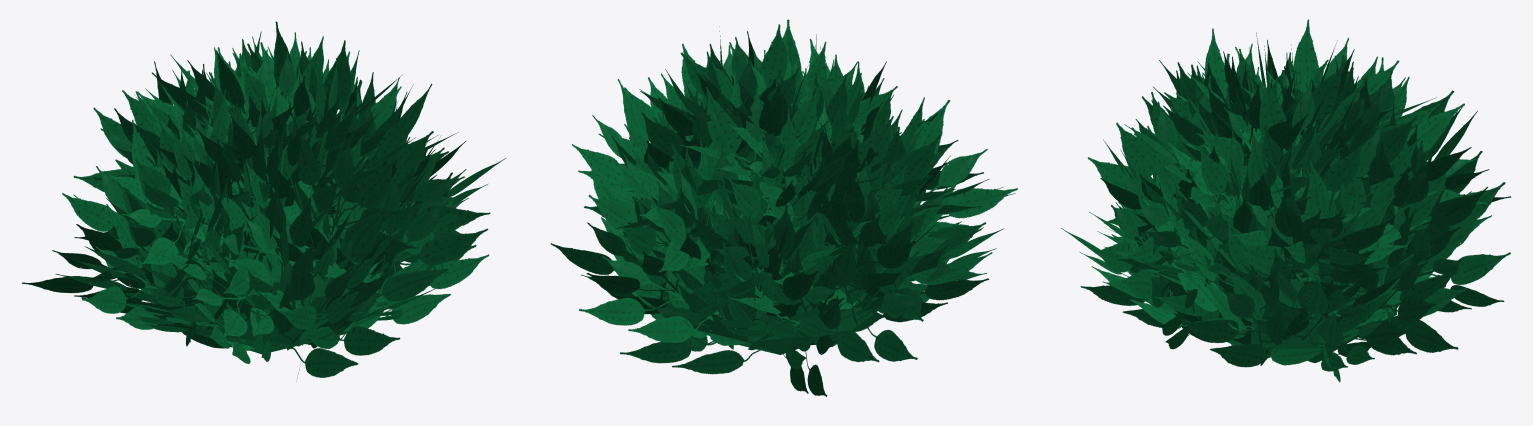
The model's file is bush.glb.
3 views of the same model, side by side, from view 1: azimuth 30°, elevation 25°; view 2: azimuth 150°, elevation 25°; view 3: azimuth 270°, elevation 25° (orthographic). The views are drawn at different scales.
Parts seen in each view (by area): view 1: bush_branch (×78), Cube; view 2: bush_branch (×80), Cube; view 3: bush_branch (×76), Cube.
Boxes of the visible parts, x1,y1,x2,y2 form: bush_branch (×78): [22, 21, 505, 377]; Cube: [172, 194, 383, 354]; bush_branch (×80): [550, 24, 1017, 396]; Cube: [665, 219, 877, 354]; bush_branch (×76): [1061, 19, 1511, 371]; Cube: [1173, 197, 1396, 355].
Bounding box in the file's own units: 4.22 × 3.44 × 4.15.
Materials: 2 (2 with a texture image).
